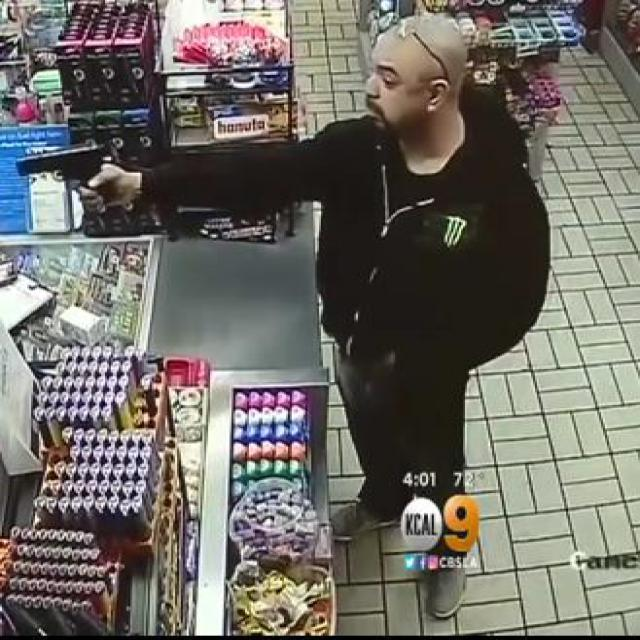gun: (12, 138, 126, 212)
